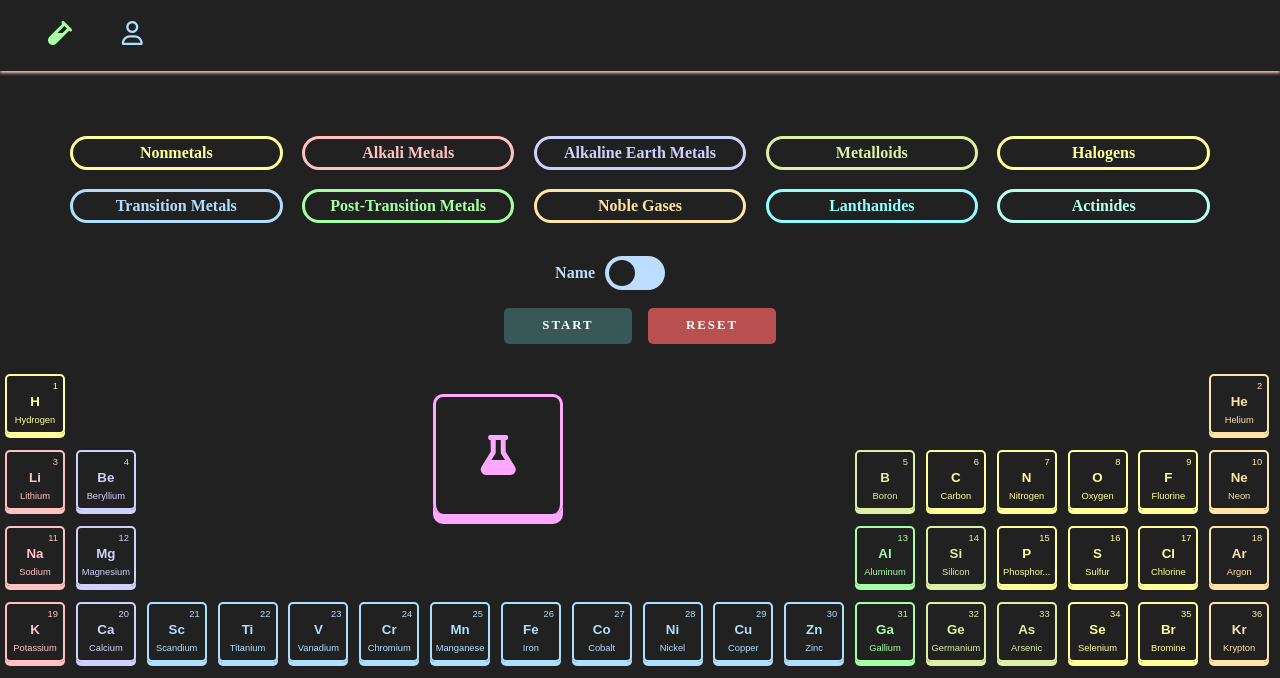
Scenario: Form elements change visual state on click › should show element details in the selected component when an element is clicked
The width and height of the screenshot is (1280, 678).
Click the button "H Hydrogen 1" at [35, 404], box 5,374 -> 65,434
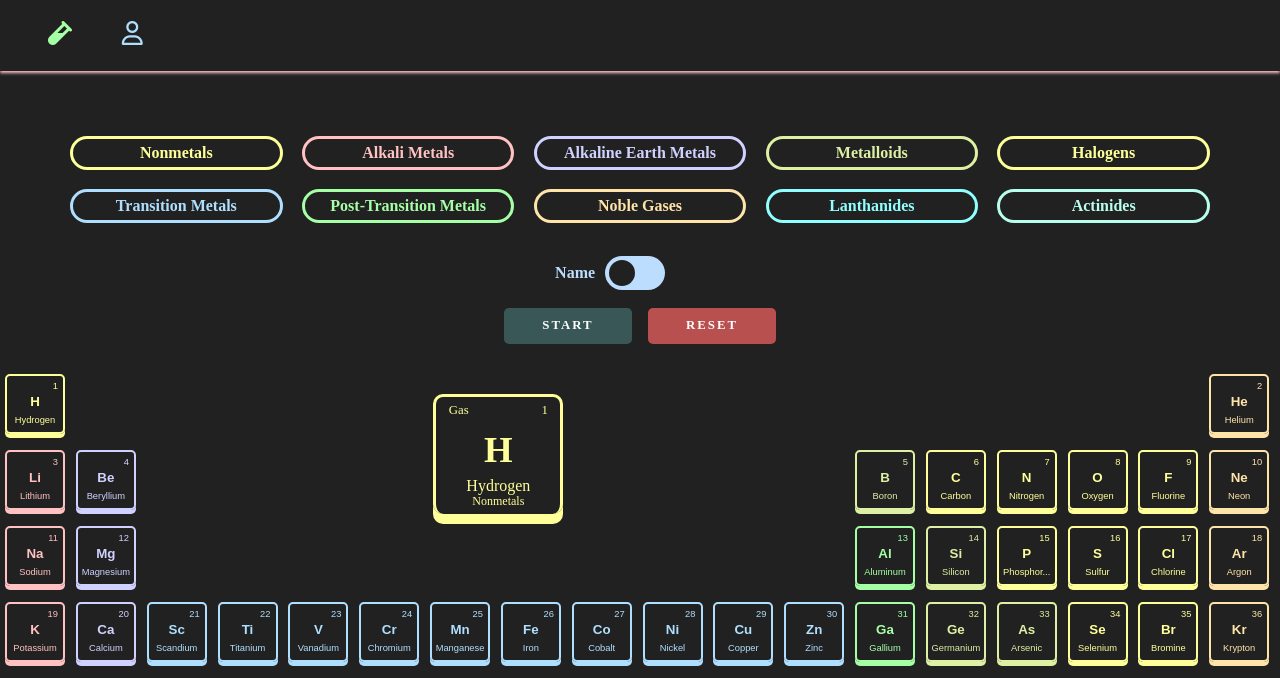
Expected: the 2nd text "H" is shown, 484,428 -> 513,471
